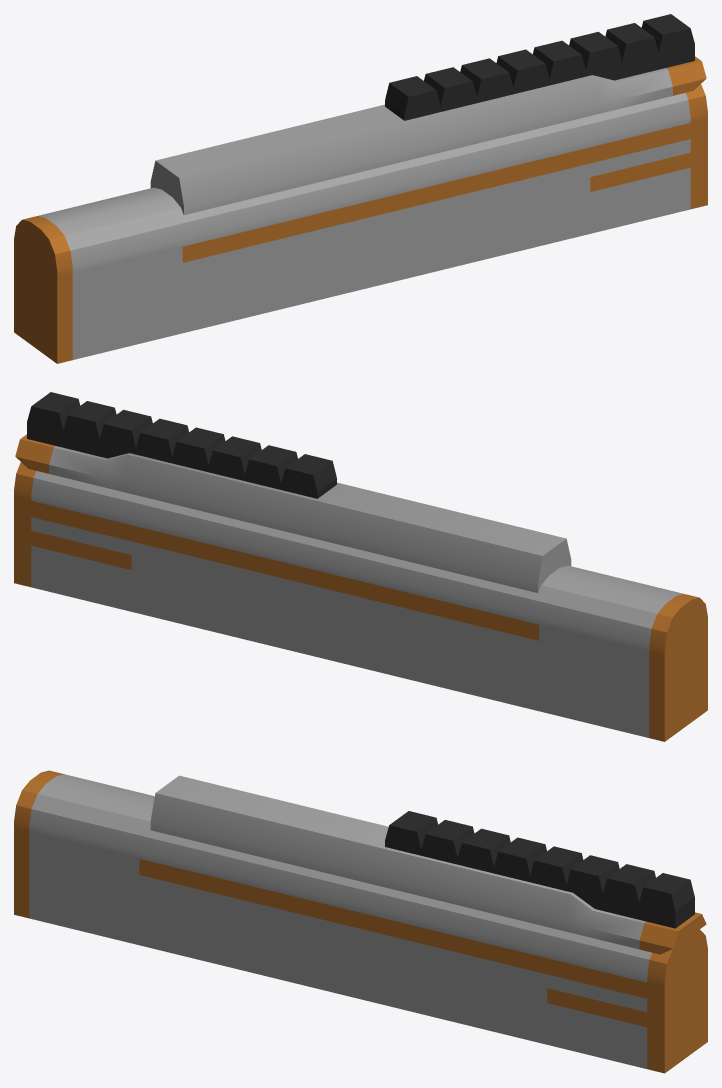
Rendered from Body_Pistol_3.glb.
3 renders of one model, top to bottom at view 1: azimuth 30°, elevation 25°; view 2: azimuth 150°, elevation 25°; view 3: azimuth 330°, elevation 25°, orthographic.
Parts seen in each view (by area): view 1: Body_Pistol_3; view 2: Body_Pistol_3; view 3: Body_Pistol_3.
Boxes of the visible parts, x1,y1,x2,y2 form: Body_Pistol_3: [14, 14, 707, 363]; Body_Pistol_3: [14, 392, 707, 741]; Body_Pistol_3: [14, 770, 707, 1073].
Size of the model in its own units: 0.7919 by 0.1961 by 0.0905.
